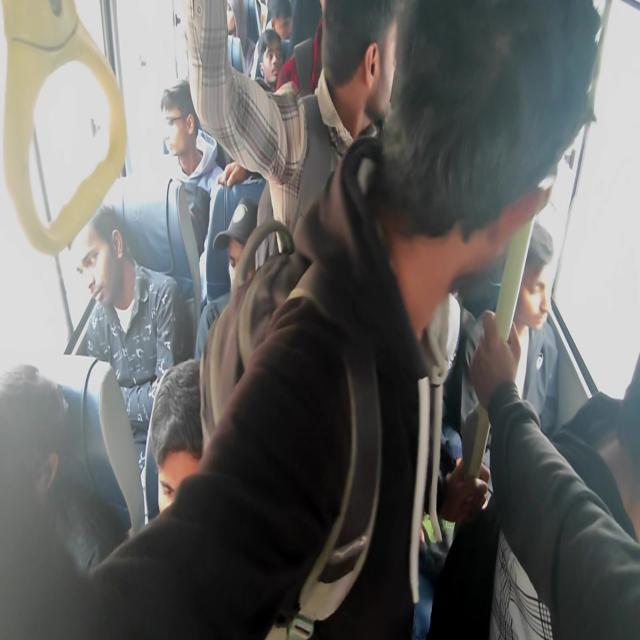person: (506, 389, 640, 640), (418, 22, 549, 271), (152, 374, 228, 533), (0, 392, 60, 560), (332, 11, 409, 136), (74, 204, 139, 324), (212, 201, 274, 323), (149, 78, 206, 173), (508, 230, 557, 334), (258, 35, 292, 90), (219, 0, 246, 42), (270, 3, 296, 34), (538, 330, 540, 330)
